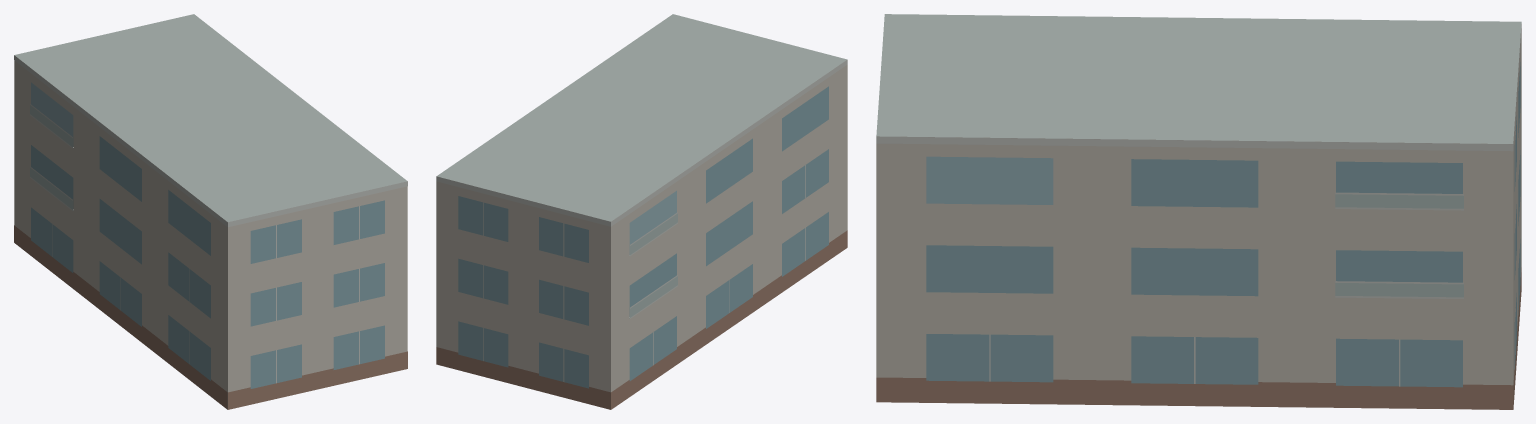
The model's file is survey-upis-32687665.glb.
3 renders of one model, left to right at view 1: azimuth 30°, elevation 25°; view 2: azimuth 150°, elevation 25°; view 3: azimuth 270°, elevation 25°, orthographic. The views are drawn at different scales.
Visible parts, largest first — view 1: survey-upis-32687665.tmp; view 2: survey-upis-32687665.tmp; view 3: survey-upis-32687665.tmp.
Boxes of the visible parts, x1,y1,x2,y2 form: survey-upis-32687665.tmp: (14, 14, 407, 409); survey-upis-32687665.tmp: (436, 14, 847, 409); survey-upis-32687665.tmp: (876, 14, 1521, 409).
Bounding box in the file's own units: 9.61 × 9.15 × 20.14.
